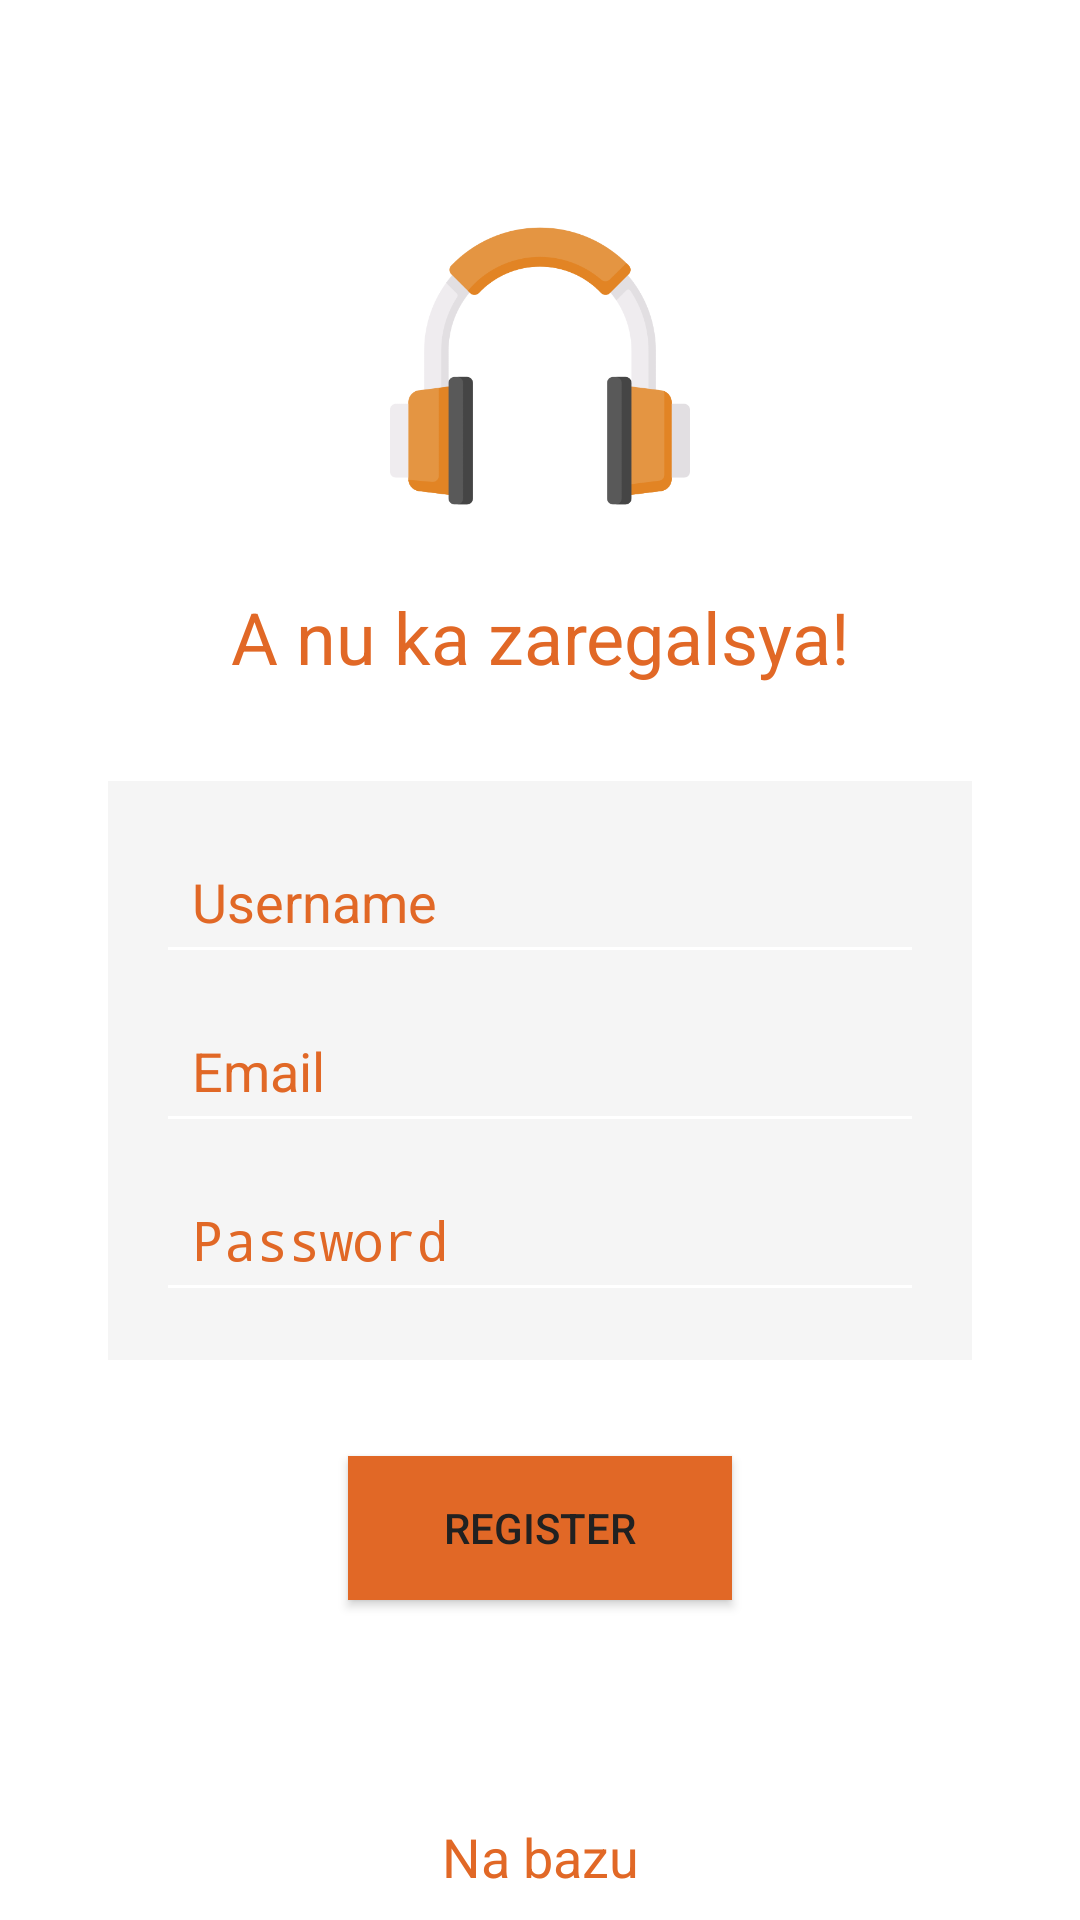

Icon bounding boxes for this 1080x1920 phone screenshot, format (x1, y1, x2, y2):
Application Icon: (408, 227, 690, 505)
